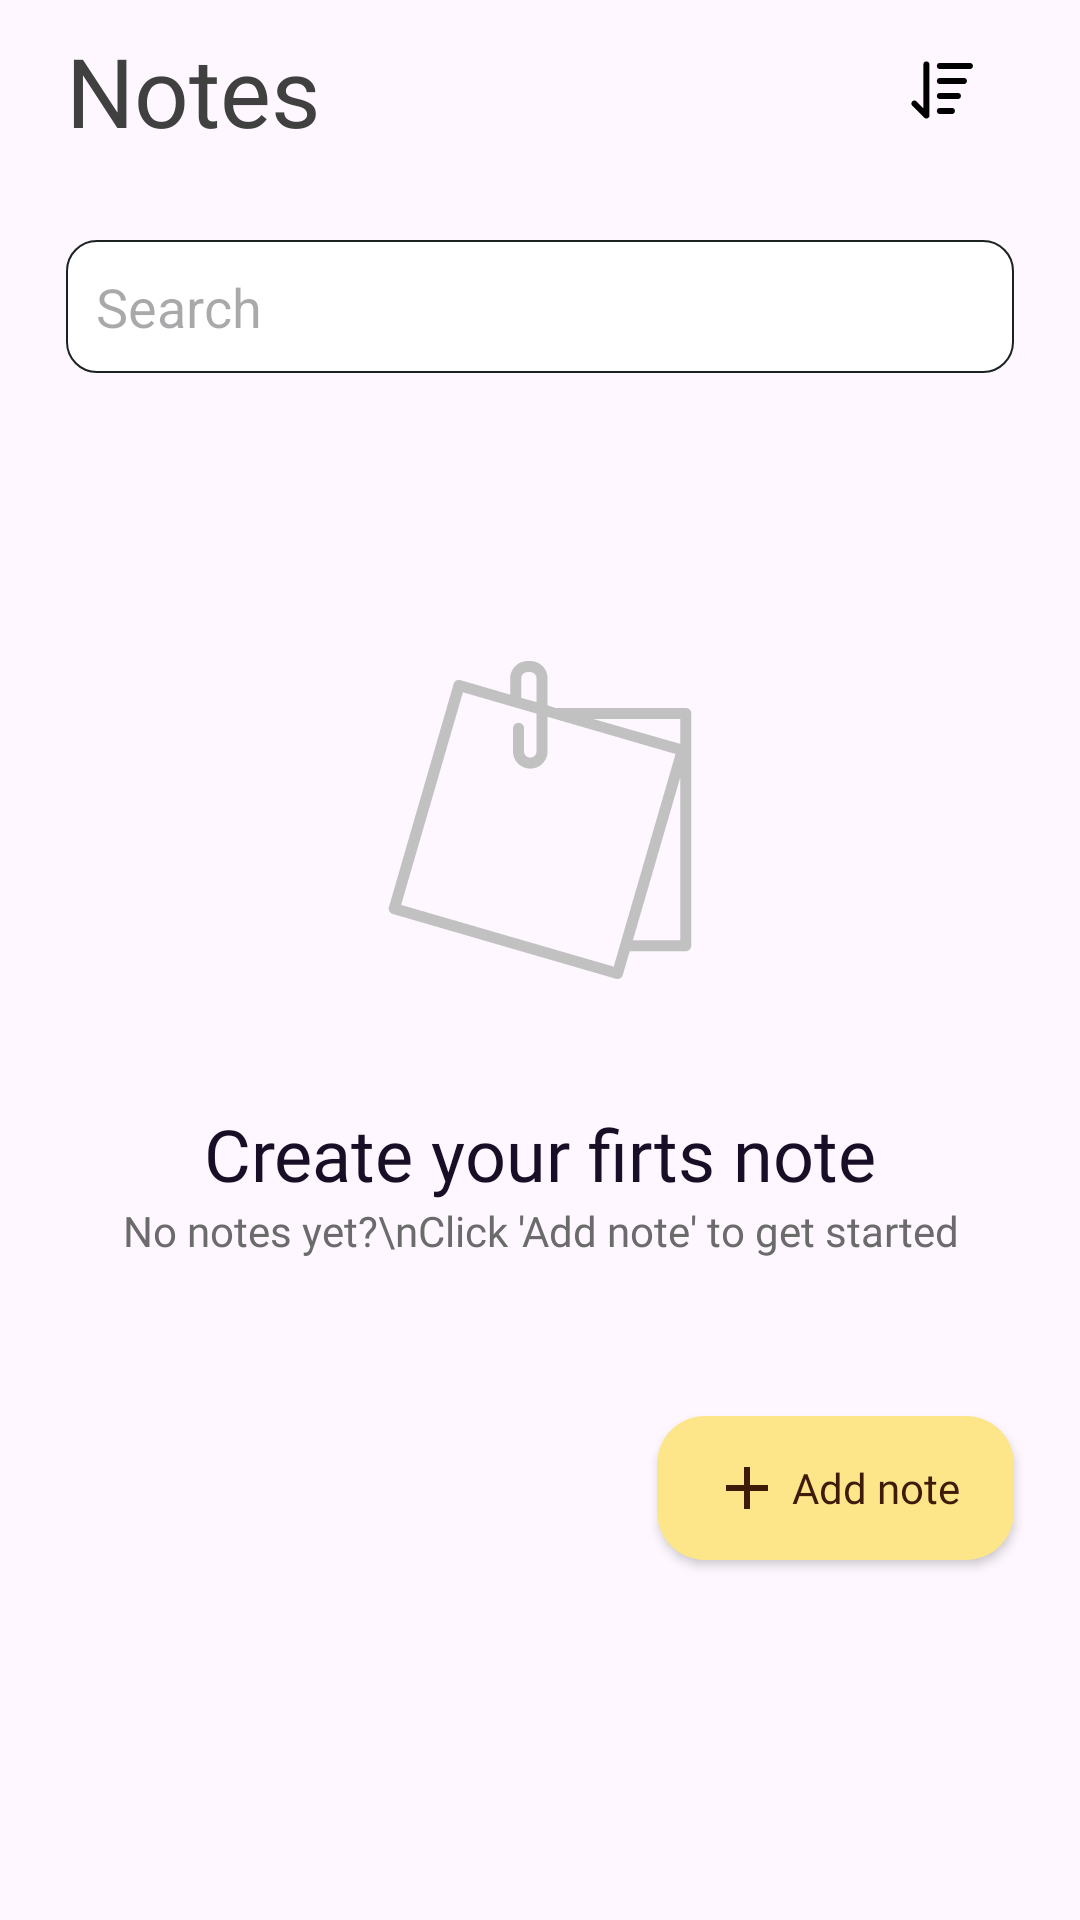

Icon click points for this 1080w x 1920h phone screenshot, format [x,y]:
empty note: [540,820]
short: [942,90]
